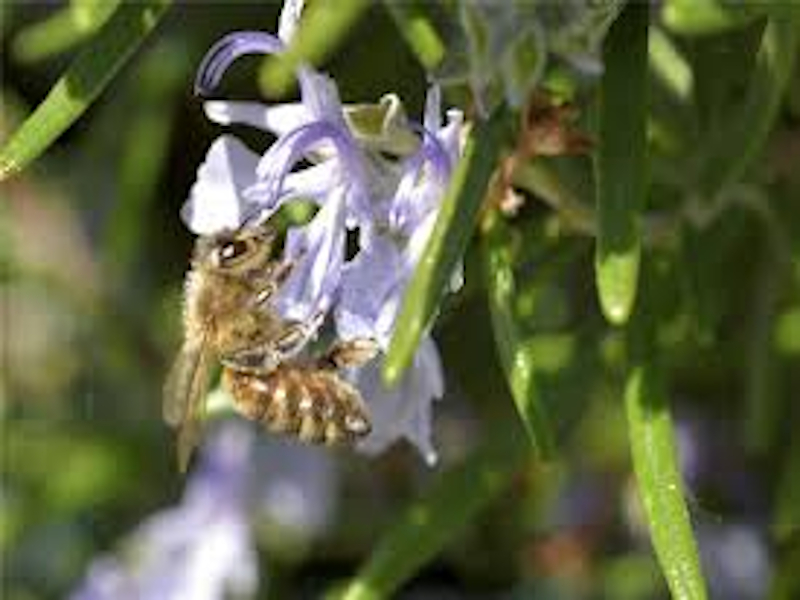abeja: (141, 213, 387, 478)
